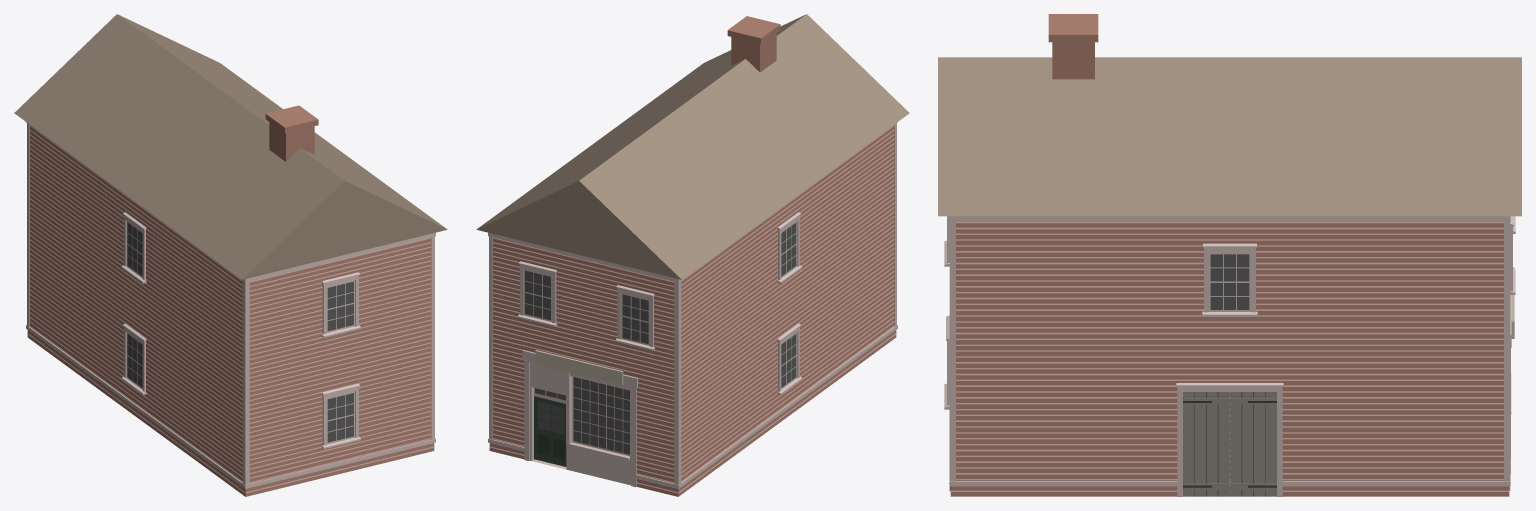
The model's file is recon_1835_gifford_c3_013__inferred_1835.glb.
3 views of the same model, side by side, from view 1: azimuth 30°, elevation 25°; view 2: azimuth 150°, elevation 25°; view 3: azimuth 270°, elevation 25° (orthographic). The views are drawn at different scales.
Visible parts, largest first — view 1: recon_1835_gifford_c3_013__inferred_1835; view 2: recon_1835_gifford_c3_013__inferred_1835; view 3: recon_1835_gifford_c3_013__inferred_1835.
Part boxes in pixels (<box>): recon_1835_gifford_c3_013__inferred_1835: <box>14,14,447,496</box>; recon_1835_gifford_c3_013__inferred_1835: <box>476,14,909,496</box>; recon_1835_gifford_c3_013__inferred_1835: <box>938,14,1521,496</box>.
Bounding box in the file's own units: 6 × 8.97 × 11.5.
